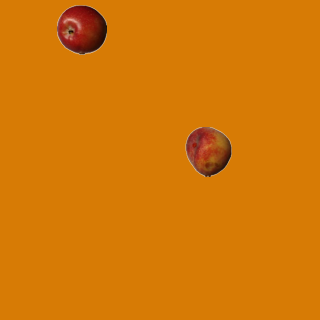Apple Braeburn: (56, 4, 106, 54)
Peach: (183, 126, 233, 176)
